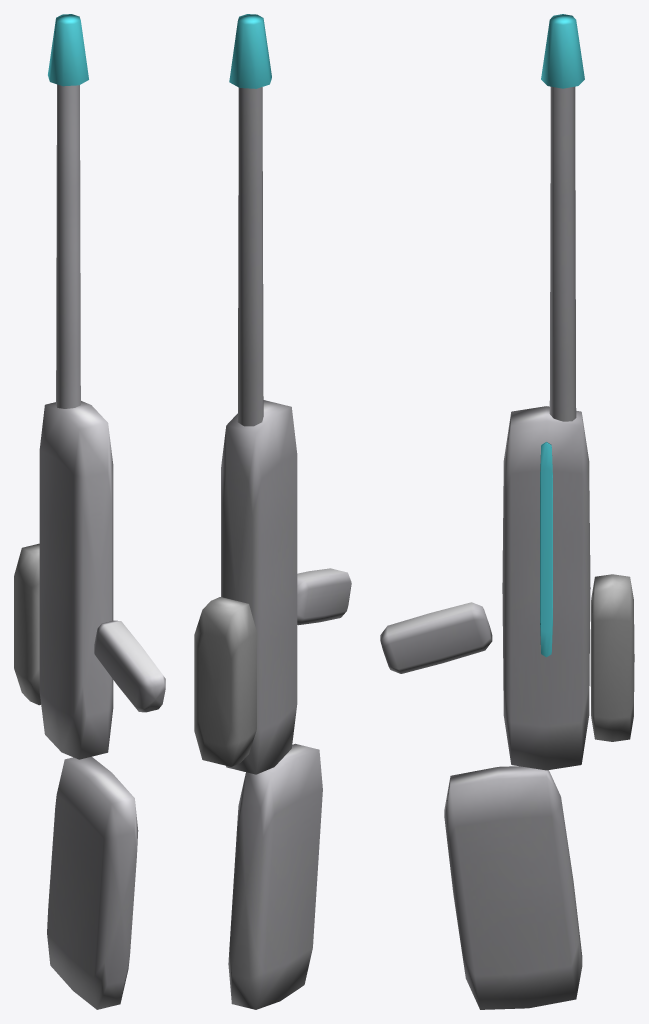
File: fusil-laser.glb
3 renders of one model, left to right at view 1: azimuth 30°, elevation 25°; view 2: azimuth 150°, elevation 25°; view 3: azimuth 270°, elevation 25°, orthographic. The views are drawn at different scales.
Visible parts, largest first — view 1: fusil-laser; view 2: fusil-laser; view 3: fusil-laser.
Part boxes in pixels (bbox=[...]): fusil-laser: bbox=[14, 14, 165, 1009]; fusil-laser: bbox=[194, 14, 351, 1009]; fusil-laser: bbox=[380, 14, 634, 1009].
Bounding box in the file's own units: 0.05 × 0.9868 × 0.2308.
Materials: 1 (1 with a texture image).
